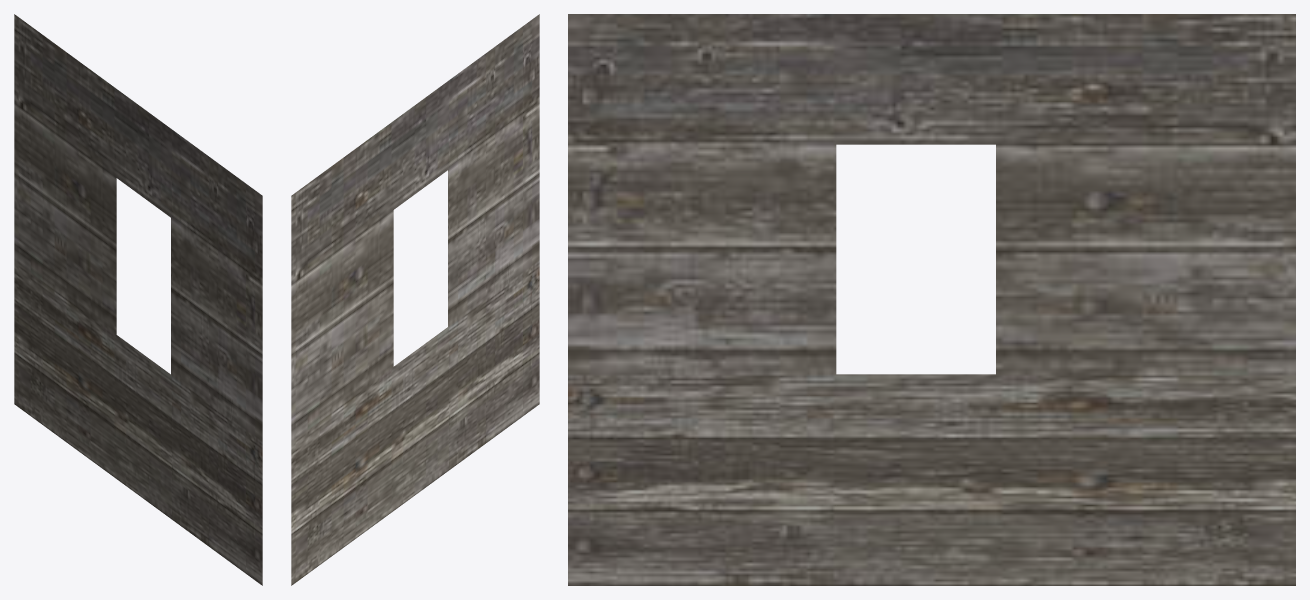
The model's file is room_wall_window.fbx.
3 views of the same model, side by side, from view 1: azimuth 30°, elevation 25°; view 2: azimuth 150°, elevation 25°; view 3: azimuth 270°, elevation 25° (orthographic). The views are drawn at different scales.
Visible parts, largest first — view 1: polySurface5; view 2: polySurface5; view 3: polySurface5.
Boxes of the visible parts, x1,y1,x2,y2 form: polySurface5: [14, 14, 262, 585]; polySurface5: [291, 14, 539, 585]; polySurface5: [568, 14, 1295, 585].
Size of the model in its own units: 0.000244 by 236 by 273.
